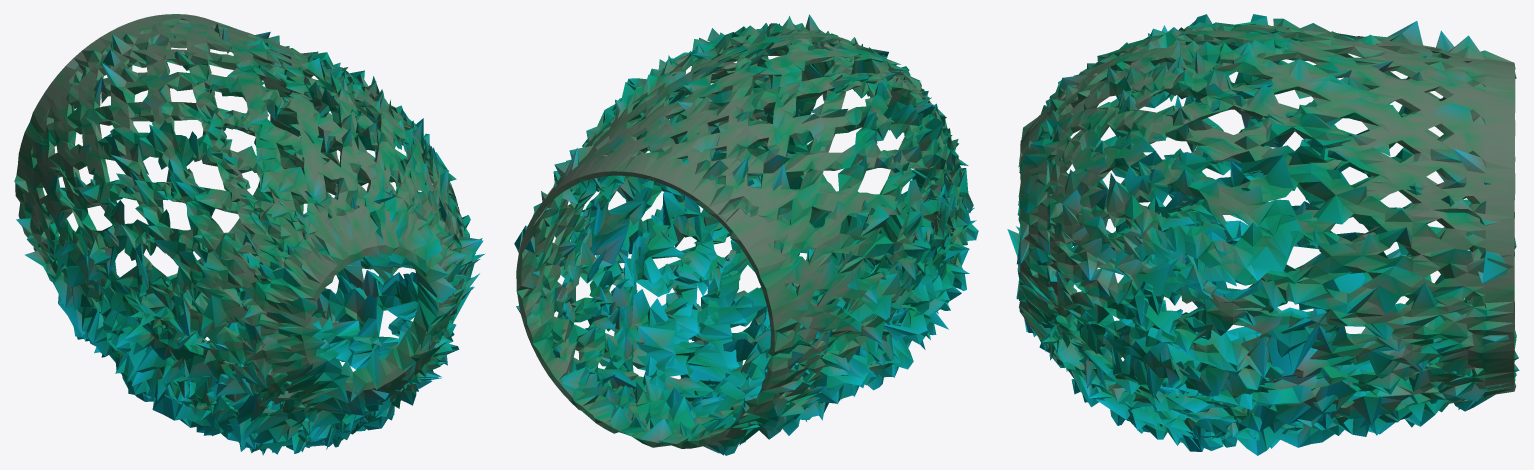
Rendered from lamp_shade_14_final200.obj.
3 renders of one model, left to right at view 1: azimuth 30°, elevation 25°; view 2: azimuth 150°, elevation 25°; view 3: azimuth 270°, elevation 25°, orthographic. The views are drawn at different scales.
Size of the model in its own units: 1.32 by 1.32 by 1.54.
